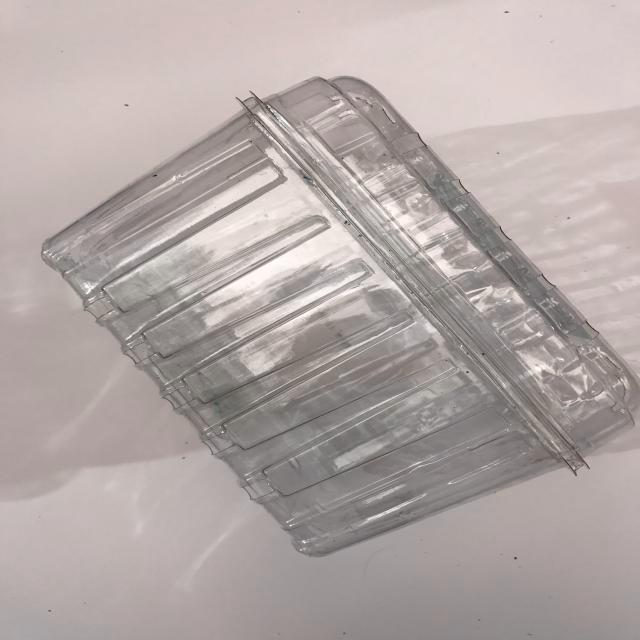plastic: (42, 72, 640, 564)
